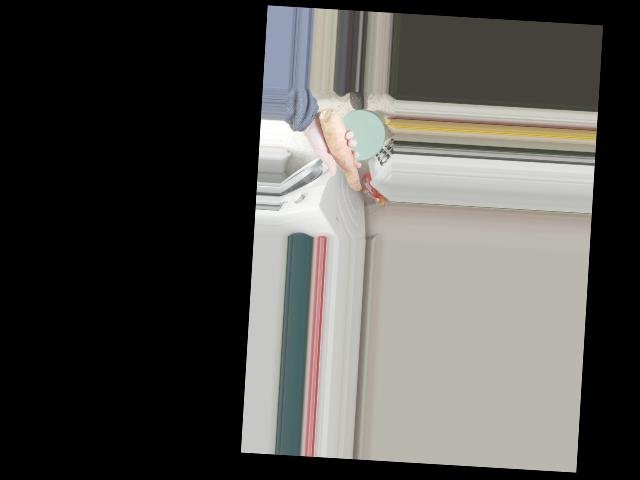sweet_potato: (312, 106, 369, 197)
